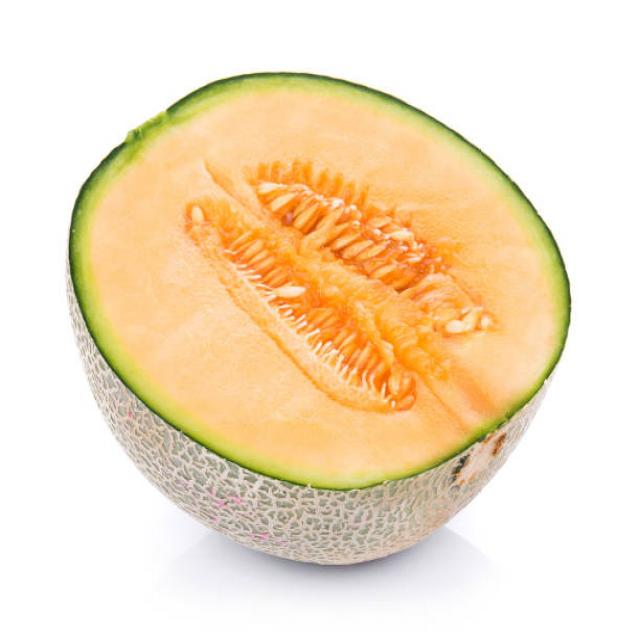melon: (61, 63, 574, 572)
